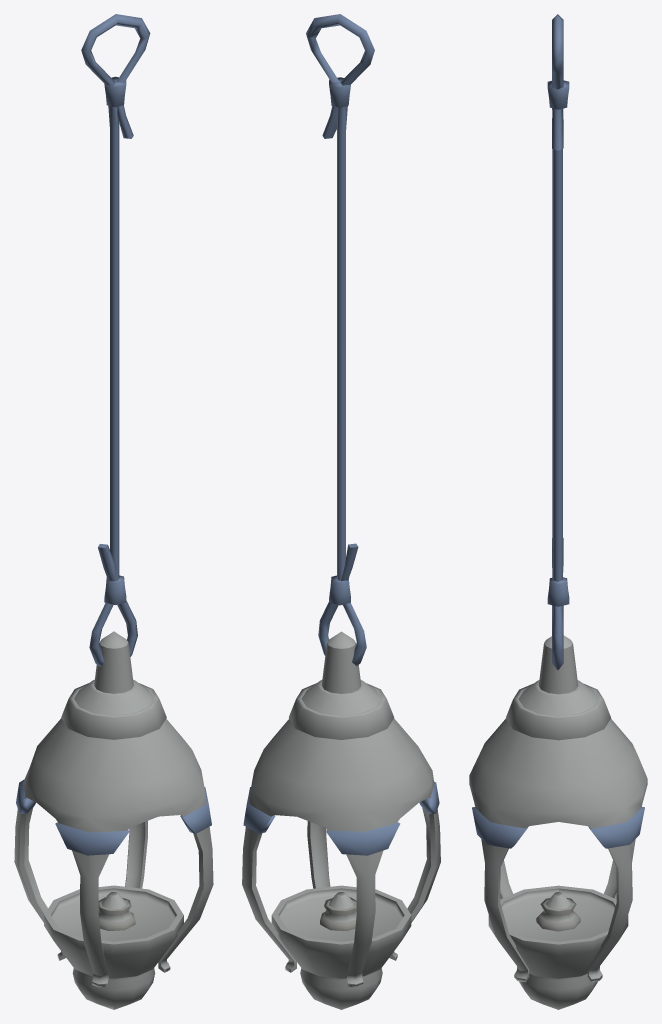
The picture shows the model from 3 angles, left to right: view 1: azimuth 30°, elevation 25°; view 2: azimuth 150°, elevation 25°; view 3: azimuth 270°, elevation 25°; orthographic projection.
Parts seen in each view (by area): view 1: G:\FFXIV-MapTools\exports\y6f2\bg\ex5\02_ykt_y6\fld\y6f2\bgp (×3); view 2: G:\FFXIV-MapTools\exports\y6f2\bg\ex5\02_ykt_y6\fld\y6f2\bgp (×3); view 3: G:\FFXIV-MapTools\exports\y6f2\bg\ex5\02_ykt_y6\fld\y6f2\bgp (×3).
Boxes of the visible parts, x1,y1,x2,y2 form: G:\FFXIV-MapTools\exports\y6f2\bg\ex5\02_ykt_y6\fld\y6f2\bgp (×3): (14, 14, 213, 1009); G:\FFXIV-MapTools\exports\y6f2\bg\ex5\02_ykt_y6\fld\y6f2\bgp (×3): (242, 14, 440, 1009); G:\FFXIV-MapTools\exports\y6f2\bg\ex5\02_ykt_y6\fld\y6f2\bgp (×3): (469, 14, 647, 1009).
Bounding box in the file's own units: 0.8057 × 4.96 × 0.8057.
